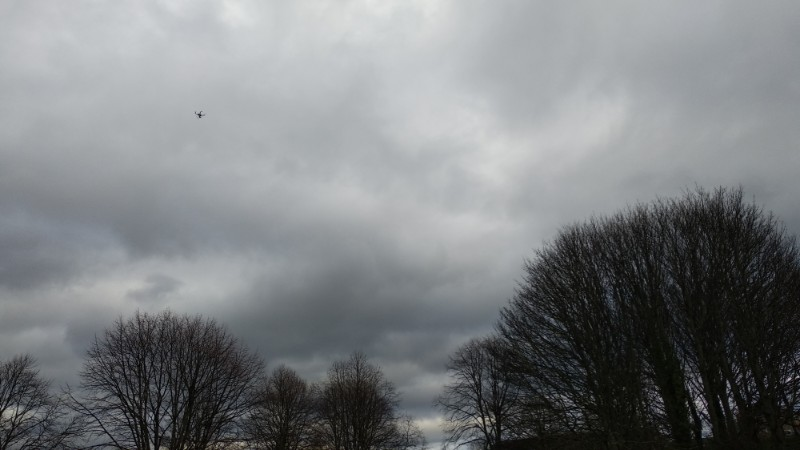drone: (193, 110, 207, 118)
